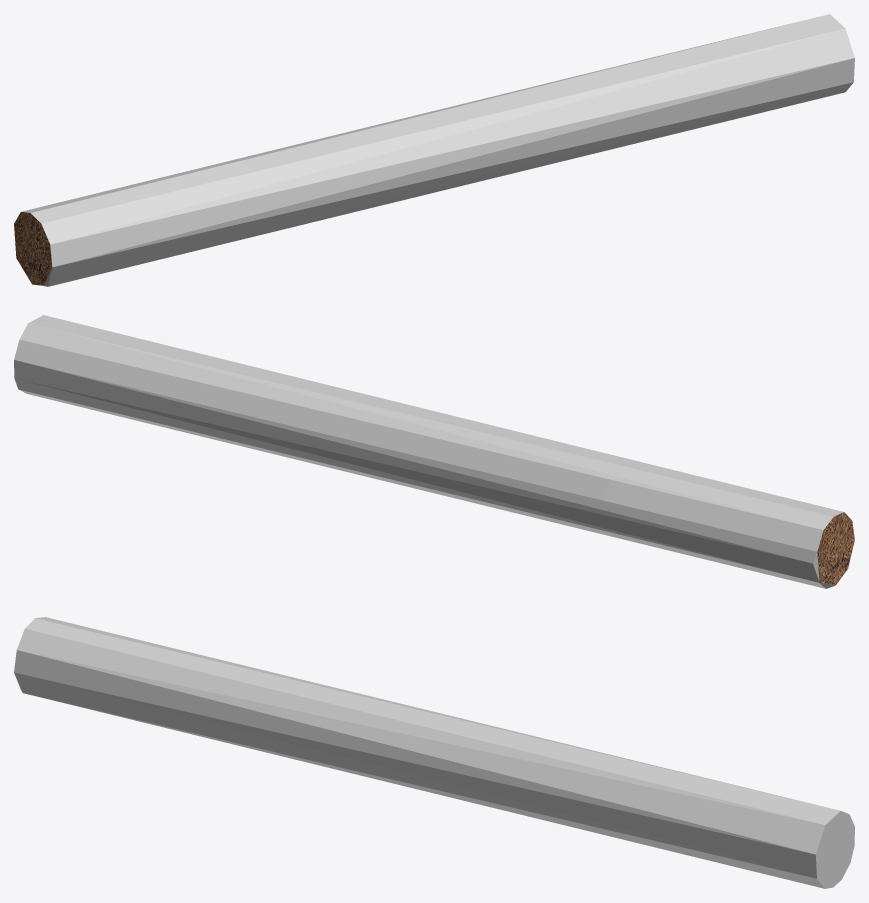
Rendered from Sigarro.fbx.
The picture shows the model from 3 angles, top to bottom: view 1: azimuth 30°, elevation 25°; view 2: azimuth 150°, elevation 25°; view 3: azimuth 330°, elevation 25°; orthographic projection.
Visible parts, largest first — view 1: MarlboroModel.002, MarlboroModel.001; view 2: MarlboroModel.002, MarlboroModel.001; view 3: MarlboroModel.002, MarlboroModel.001.
Part boxes in pixels (<box>): MarlboroModel.002: <box>236,14,854,235</box>; MarlboroModel.001: <box>14,159,265,286</box>; MarlboroModel.002: <box>14,315,630,537</box>; MarlboroModel.001: <box>602,459,854,588</box>; MarlboroModel.002: <box>227,668,854,888</box>; MarlboroModel.001: <box>14,617,256,744</box>.
Bounding box in the file's own units: 287 × 24.36 × 24.53.
